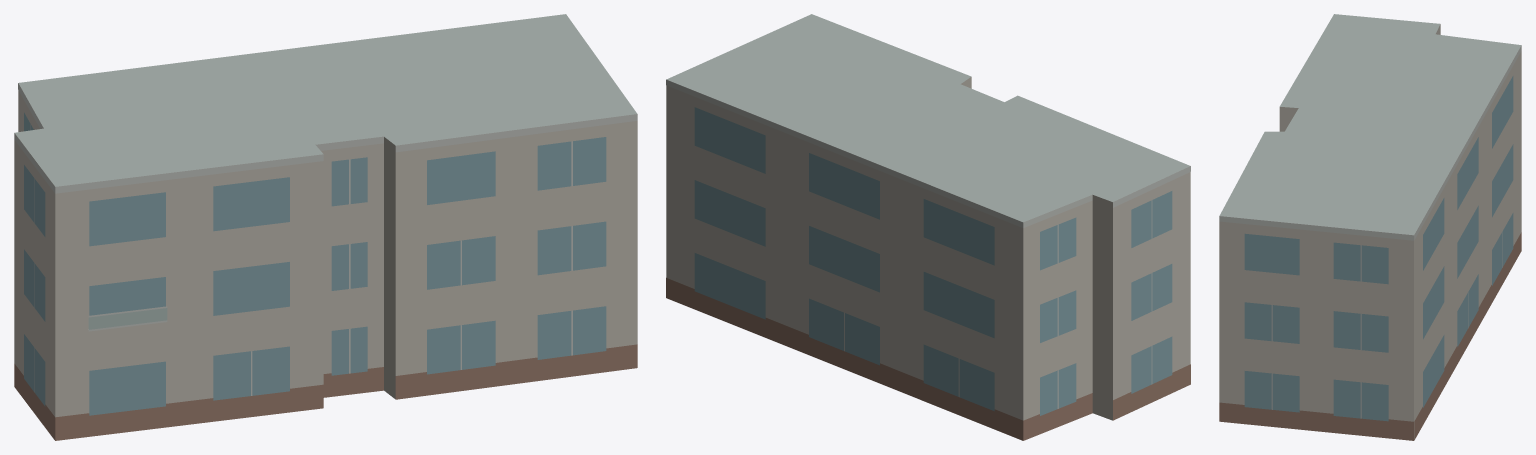
Rendered from survey-upis-32663968.glb.
The picture shows the model from 3 angles, left to right: view 1: azimuth 30°, elevation 25°; view 2: azimuth 150°, elevation 25°; view 3: azimuth 270°, elevation 25°; orthographic projection. The views are drawn at different scales.
Visible parts, largest first — view 1: survey-upis-32663968.tmp; view 2: survey-upis-32663968.tmp; view 3: survey-upis-32663968.tmp.
Boxes of the visible parts, x1,y1,x2,y2 form: survey-upis-32663968.tmp: [14, 14, 637, 440]; survey-upis-32663968.tmp: [666, 14, 1190, 440]; survey-upis-32663968.tmp: [1219, 14, 1521, 440].
Bounding box in the file's own units: 21.13 × 9.15 × 12.2.
